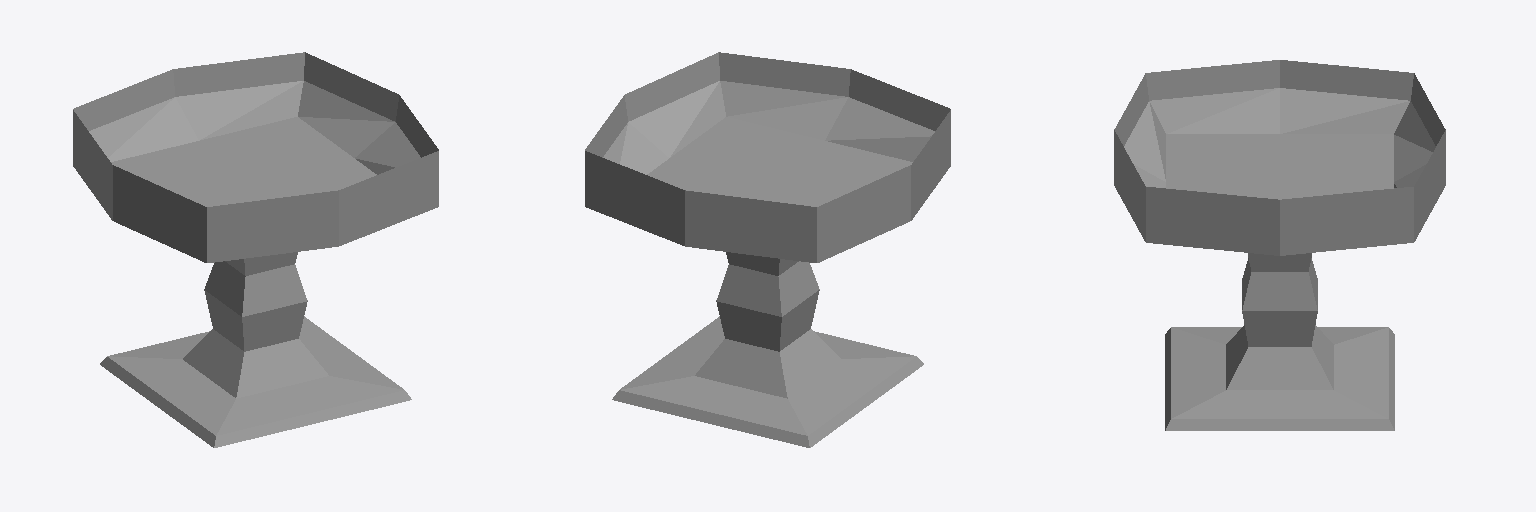
File: pool.obj
The picture shows the model from 3 angles: view 1: azimuth 30°, elevation 25°; view 2: azimuth 150°, elevation 25°; view 3: azimuth 270°, elevation 25°; orthographic projection.
Visible parts, largest first — view 1: Cube; view 2: Cube; view 3: Cube.
Boxes of the visible parts, x1,y1,x2,y2 form: Cube: [73, 52, 438, 447]; Cube: [585, 52, 950, 447]; Cube: [1114, 60, 1445, 430].
Bounding box in the file's own units: 1 × 0.8411 × 1.